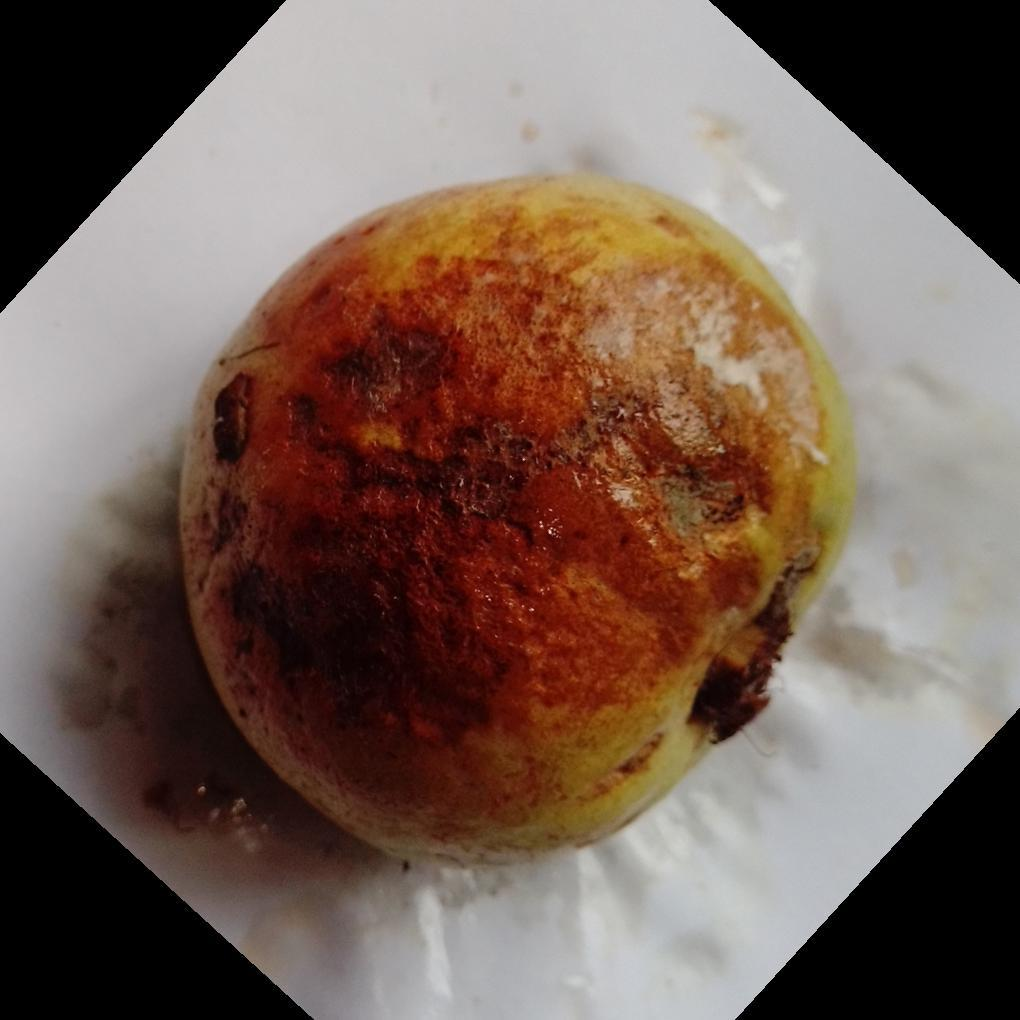FreshOrange: (175, 173, 857, 872)
